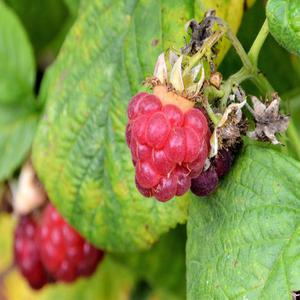raspb: (125, 86, 205, 200)
